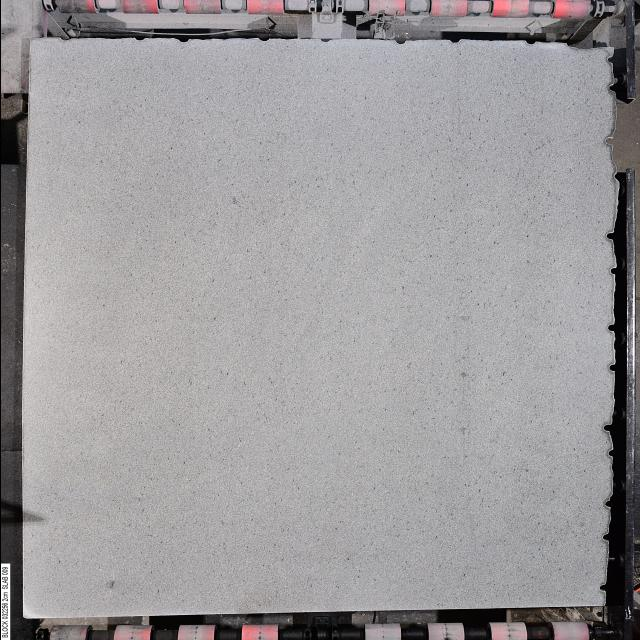chapa: (22, 39, 616, 618)
veio: (602, 134, 617, 148), (601, 422, 617, 434), (604, 54, 616, 66), (522, 37, 536, 47), (598, 583, 610, 593), (600, 532, 612, 542), (606, 363, 618, 373), (604, 323, 616, 333), (608, 266, 620, 276), (606, 82, 616, 94), (603, 500, 614, 510), (604, 232, 615, 240)
